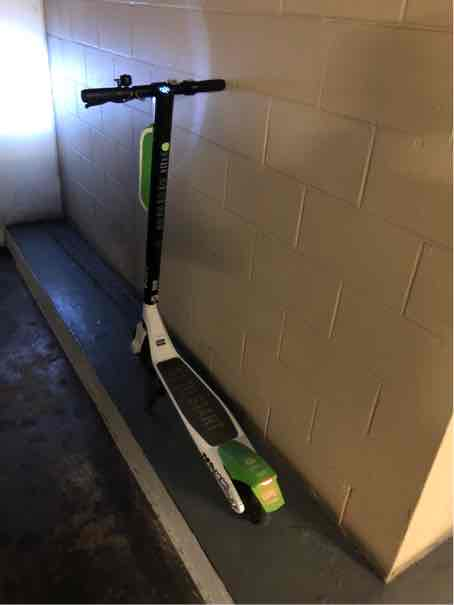scooter: (75, 66, 327, 529)
